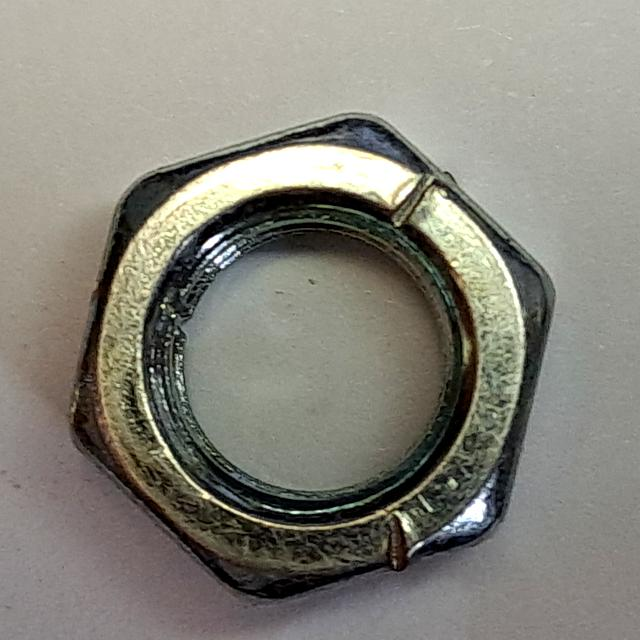Scratches: (59, 94, 567, 620)
